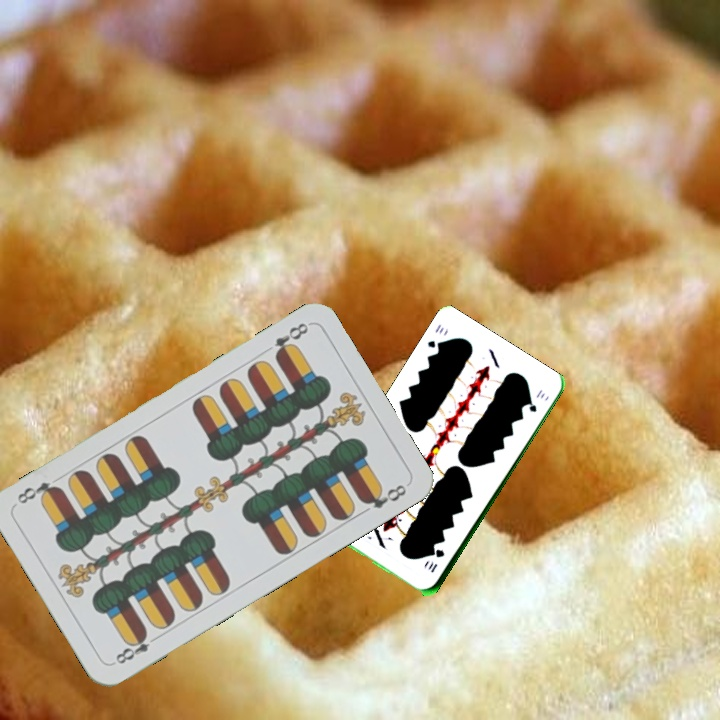E8: (111, 627, 163, 667), (270, 318, 311, 362)
G10: (423, 320, 446, 353), (424, 546, 447, 575)
